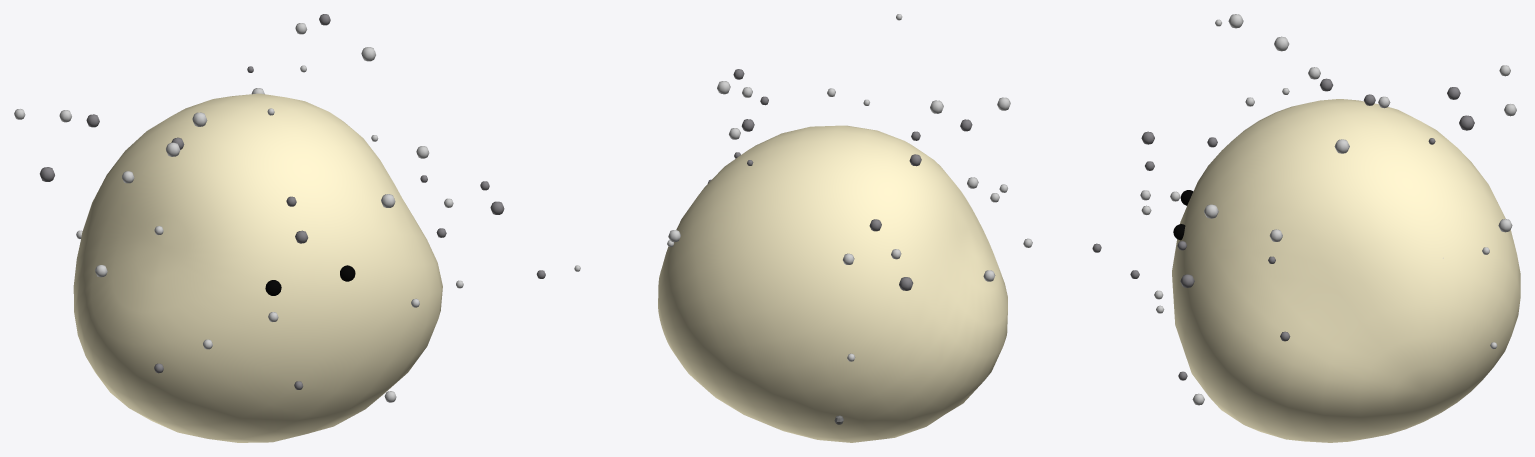
The model's file is Roomie_dust 2.glb.
3 renders of one model, left to right at view 1: azimuth 30°, elevation 25°; view 2: azimuth 150°, elevation 25°; view 3: azimuth 270°, elevation 25°, orthographic. The views are drawn at different scales.
Parts seen in each view (by area): view 1: Body; view 2: Body; view 3: Body.
Boxes of the visible parts, bbox=[...] form: Body: bbox=[73, 93, 442, 442]; Body: bbox=[658, 125, 1007, 442]; Body: bbox=[1172, 99, 1520, 442].
Size of the model in its own units: 2.88 by 2.7 by 2.39.
